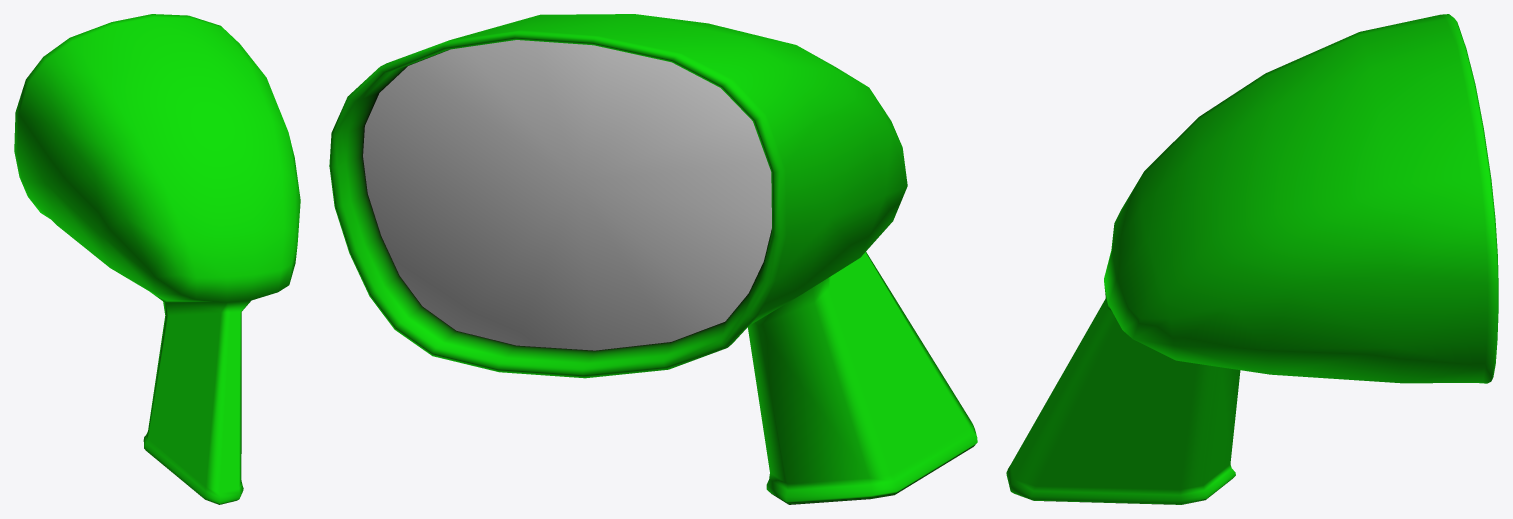
The model's file is Car_Buick_GrandNational_1987_FenderMirrorL_SetXB.fbx.
3 views of the same model, side by side, from view 1: azimuth 30°, elevation 25°; view 2: azimuth 150°, elevation 25°; view 3: azimuth 270°, elevation 25° (orthographic). The views are drawn at different scales.
Visible parts, largest first — view 1: FenderMirrorL 6; view 2: FenderMirrorL 6; view 3: FenderMirrorL 6.
Part boxes in pixels (x1,y1,x2,y2): FenderMirrorL 6: (14,14,300,504); FenderMirrorL 6: (329,14,977,504); FenderMirrorL 6: (1006,14,1498,504).
Size of the model in its own units: 0.1534 by 0.2038 by 0.1915.
